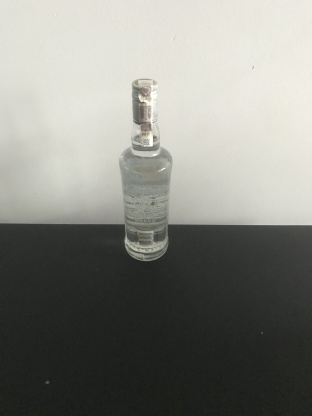nakretka: (130, 77, 159, 124)
